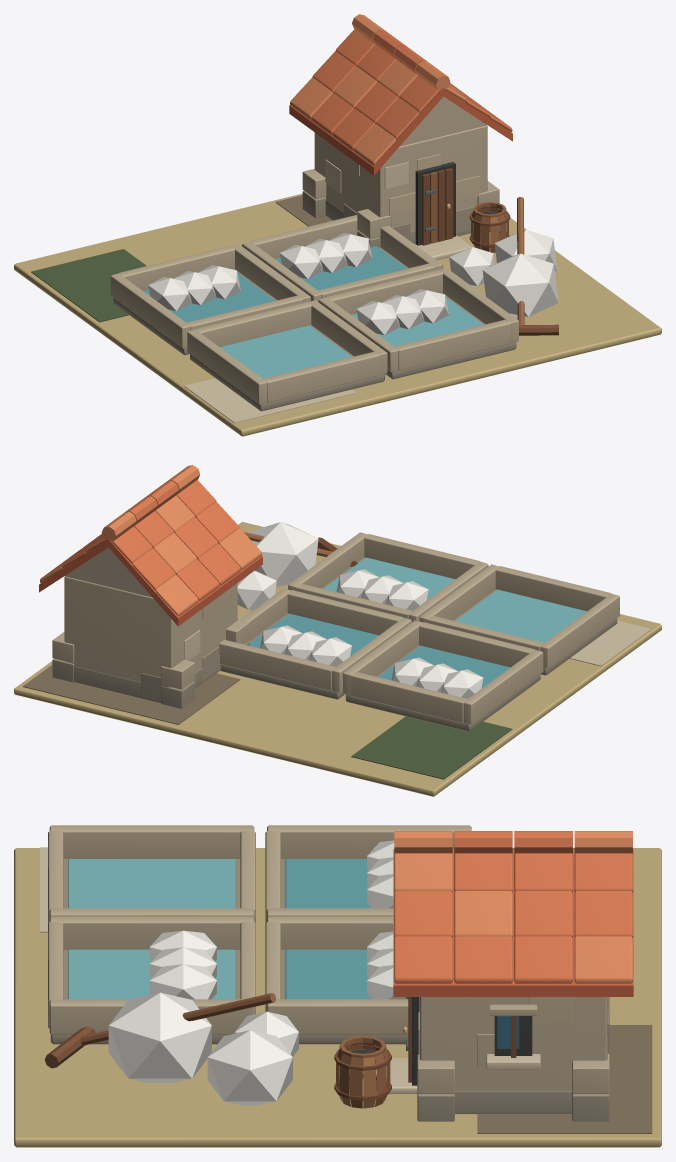
File: saltworks.glb
3 views of the same model, one above another, from view 1: azimuth 30°, elevation 25°; view 2: azimuth 150°, elevation 25°; view 3: azimuth 270°, elevation 25° (orthographic). The views are drawn at different scales.
Visible parts, largest first — view 1: saltworks; view 2: saltworks; view 3: saltworks.
Boxes of the visible parts, <box> form: saltworks: <box>14,14,661,436</box>; saltworks: <box>14,465,661,796</box>; saltworks: <box>14,825,661,1147</box>.
Bounding box in the file's own units: 3.3 × 1.36 × 3.1.
